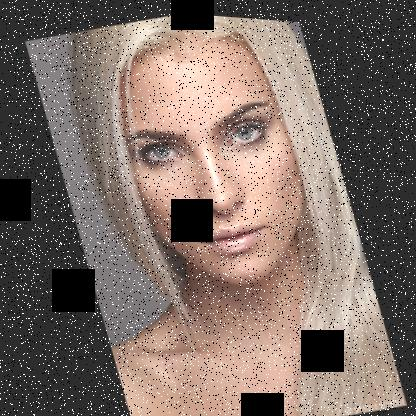Female: (98, 11, 329, 304)
